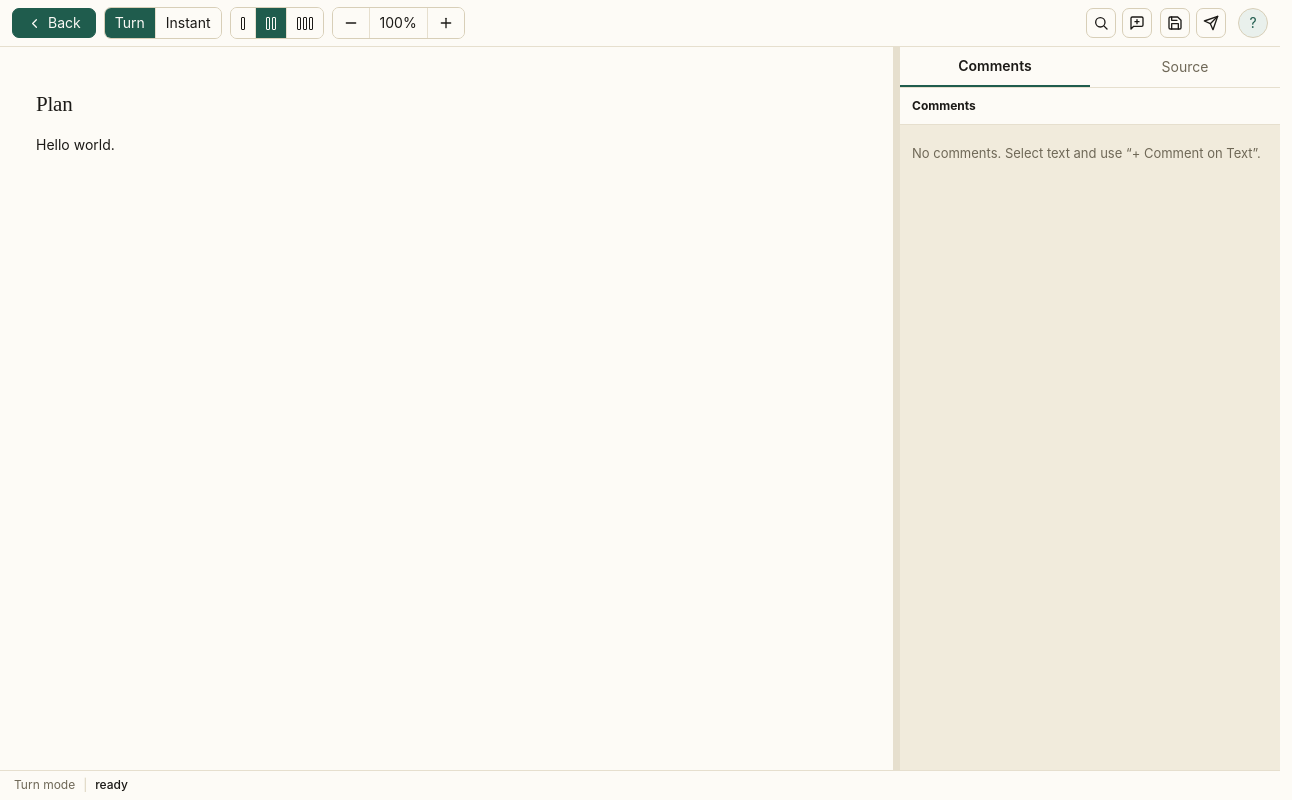
Test: App mode toggle + save / finish turn / complete (memory-backed) › Save in Turn mode persists a backup without ending the turn
What coordinates should you click on to do the following:
click the button named "save"
I would click on:
 (1175, 23)
Its box is [1160, 8, 1190, 38].
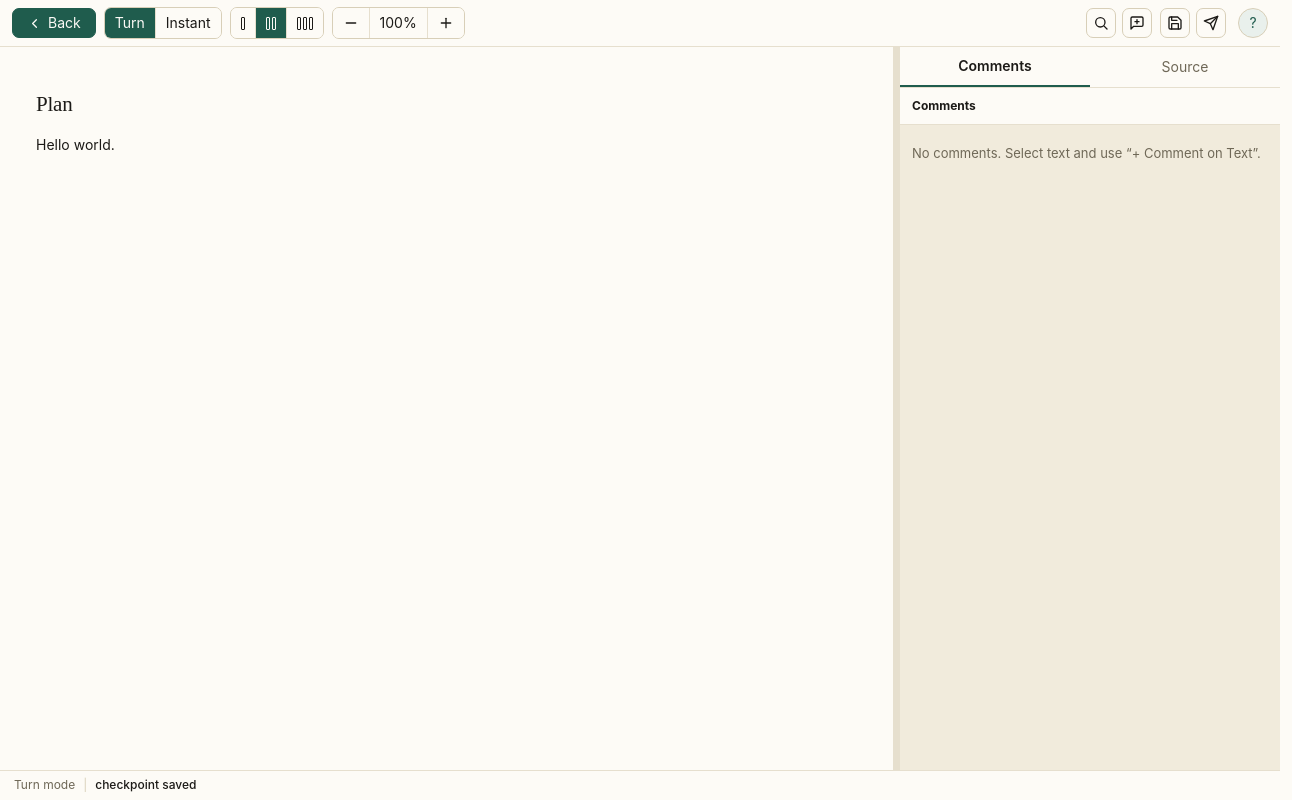
Expected: the text "checkpoint saved" is shown, [95, 776, 196, 795]
